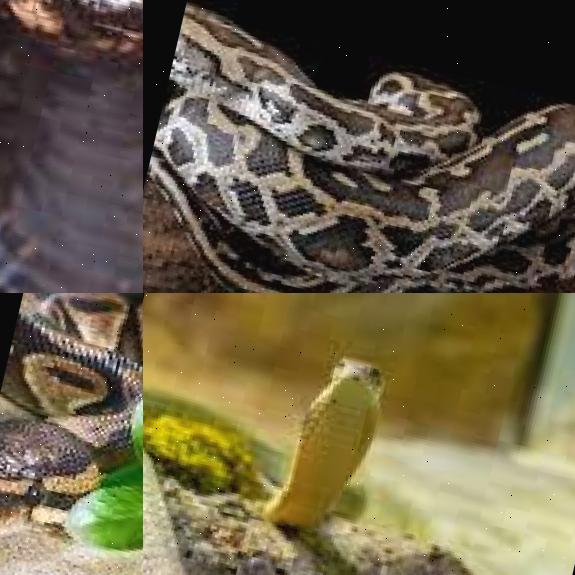snake: (143, 0, 575, 293), (143, 293, 442, 575), (0, 0, 143, 293), (0, 293, 143, 575)
